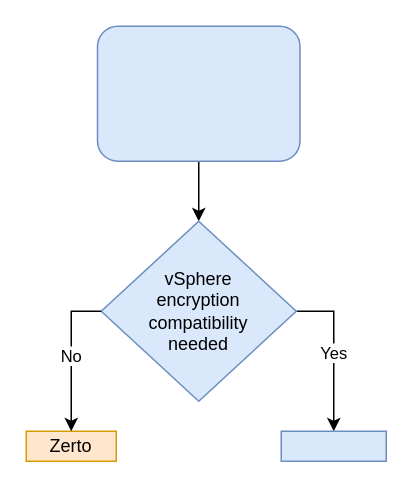
The diagram is 413 pixels wide and 488 high, and some of its shapes have lost their labels. Each missing label, with the box of its shape:
Need disaster recovery capability for VMware workloads across IBM Cloud regions: (96, 25, 300, 161)
Veeam: (280, 430, 386, 461)
